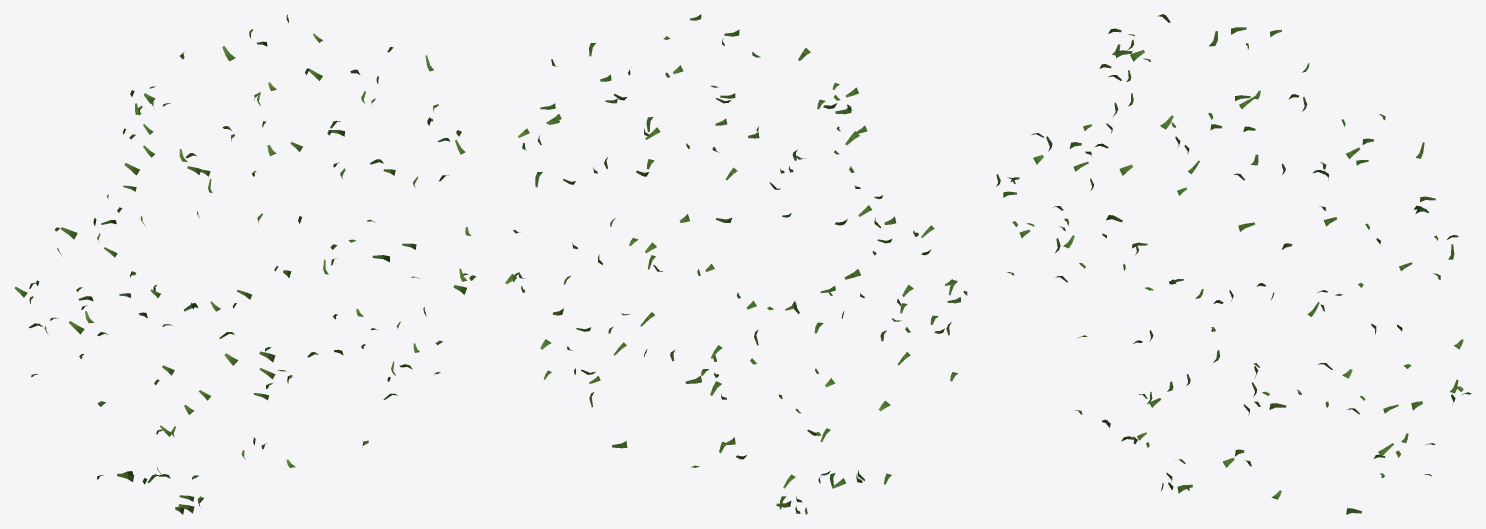
The model's file is Grass_Tile_SportsTurf.glb.
The picture shows the model from 3 angles, left to right: view 1: azimuth 30°, elevation 25°; view 2: azimuth 150°, elevation 25°; view 3: azimuth 330°, elevation 25°; orthographic projection. The views are drawn at different scales.
Parts seen in each view (by area): view 1: Grass_Tile_SportsTurf; view 2: Grass_Tile_SportsTurf; view 3: Grass_Tile_SportsTurf.
Part boxes in pixels (<box>): Grass_Tile_SportsTurf: <box>14,14,475,514</box>; Grass_Tile_SportsTurf: <box>505,14,967,514</box>; Grass_Tile_SportsTurf: <box>996,14,1471,514</box>.
Size of the model in its own units: 1.66 by 1.64 by 0.0449.
